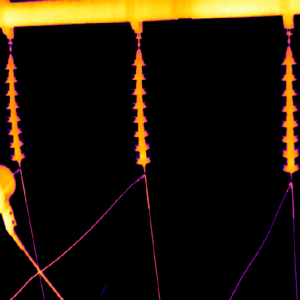insulator: (281, 42, 300, 174), (4, 51, 25, 162), (132, 47, 150, 166)
